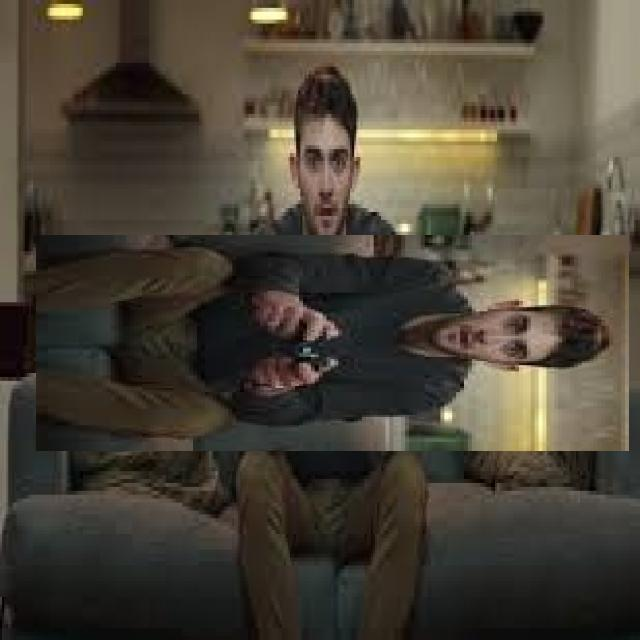NotFall: (99, 168, 627, 476)
